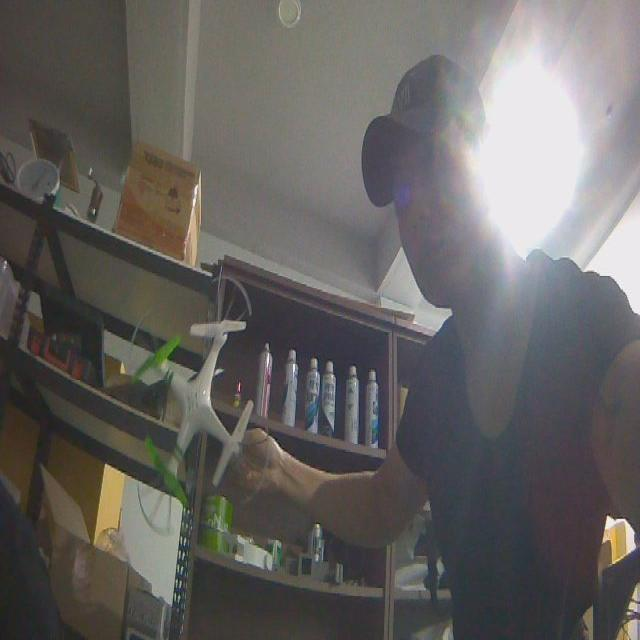drone: (123, 273, 273, 539)
